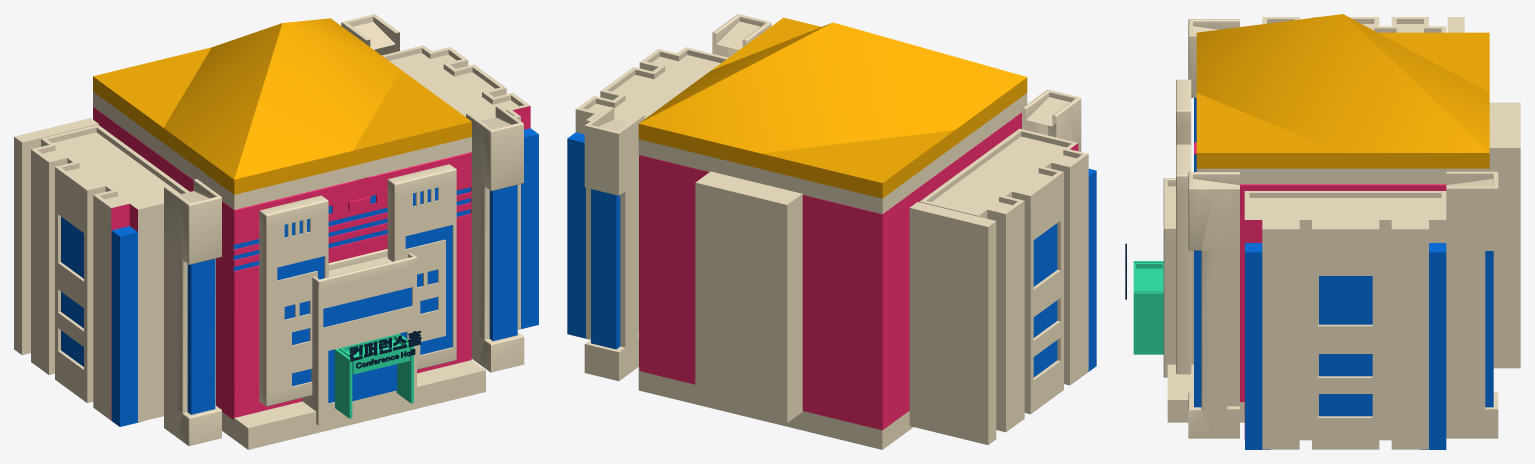
File: 컨퍼런스홀.fbx
3 renders of one model, left to right at view 1: azimuth 30°, elevation 25°; view 2: azimuth 150°, elevation 25°; view 3: azimuth 270°, elevation 25°, orthographic. The views are drawn at different scales.
Parts seen in each view (by area): view 1: 지붕_1, 오른쪽_1, 몸통, 앞판2_1, 왼쪽1_3, 앞판, 앞판2, 왼쪽1_1, 바닥판, 오른쪽, 지붕, Cube_2_2 (+15 smaller); view 2: 지붕_1, 몸통, 오른쪽_1, 맨뒷판, 왼쪽2, 왼쪽1_2, 오른쪽, 지붕, Cube_1, 바닥판, Cube_114, 왼쪽1_3 (+3 smaller); view 3: 지붕_1, 오른쪽, 왼쪽1_2, 왼쪽1_1, 맨뒷판, Cube_39, 지붕, Cube_114, Cube_40, 앞판2, 앞판, 몸통 (+8 smaller).
Part boxes in pixels (left/top/right/bottom): 지붕_1: left=93, top=18, right=471, bottom=194; 오른쪽_1: left=31, top=124, right=189, bottom=422; 몸통: left=93, top=107, right=471, bottom=419; 앞판2_1: left=259, top=195, right=328, bottom=406; 왼쪽1_3: left=164, top=179, right=221, bottom=445; 앞판: left=302, top=249, right=417, bottom=425; 앞판2: left=387, top=164, right=456, bottom=369; 왼쪽1_1: left=466, top=105, right=524, bottom=372; 바닥판: left=222, top=360, right=485, bottom=449; 오른쪽: left=382, top=45, right=530, bottom=329; 지붕: left=93, top=91, right=471, bottom=209; Cube_2_2: left=111, top=226, right=139, bottom=426; 지붕_1: left=638, top=17, right=1027, bottom=198; 몸통: left=639, top=112, right=1021, bottom=430; 오른쪽_1: left=920, top=128, right=1088, bottom=432; 맨뒷판: left=695, top=171, right=802, bottom=422; 왼쪽2: left=909, top=202, right=996, bottom=444; 왼쪽1_2: left=584, top=107, right=644, bottom=381; 오른쪽: left=575, top=47, right=728, bottom=339; 지붕: left=638, top=93, right=1027, bottom=214; Cube_1: left=591, top=189, right=620, bottom=349; 바닥판: left=638, top=368, right=913, bottom=449; Cube_114: left=567, top=132, right=590, bottom=339; 왼쪽1_3: left=1022, top=89, right=1081, bottom=151; 지붕_1: left=1196, top=14, right=1489, bottom=168; 오른쪽: left=1244, top=191, right=1446, bottom=449; 왼쪽1_2: left=1446, top=171, right=1498, bottom=438; 왼쪽1_1: left=1188, top=172, right=1239, bottom=438; 맨뒷판: left=1489, top=102, right=1520, bottom=368; Cube_39: left=1319, top=276, right=1372, bottom=416; 지붕: left=1196, top=168, right=1489, bottom=184; Cube_114: left=1421, top=243, right=1446, bottom=449; Cube_40: left=1245, top=243, right=1270, bottom=449; 앞판2: left=1176, top=144, right=1191, bottom=374; 앞판: left=1163, top=178, right=1193, bottom=377; 몸통: left=1194, top=142, right=1446, bottom=401.
Bounding box in the file's own units: 621 × 475 × 488.
